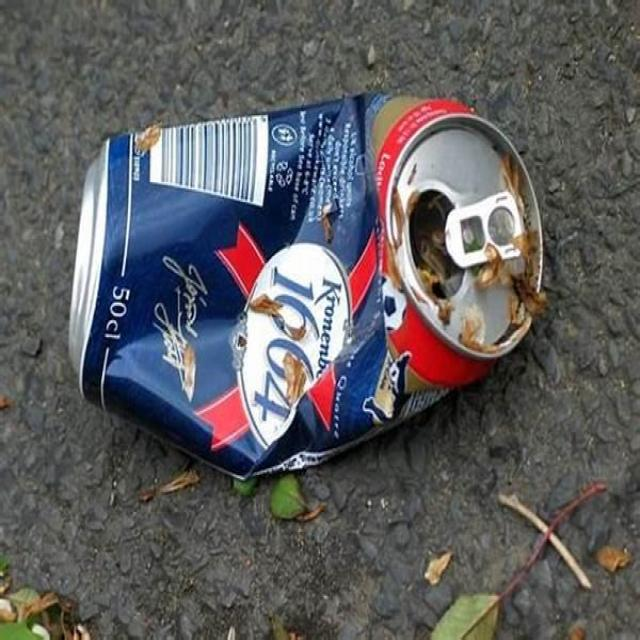can: (66, 90, 546, 480)
pop tab: (444, 190, 522, 268)
